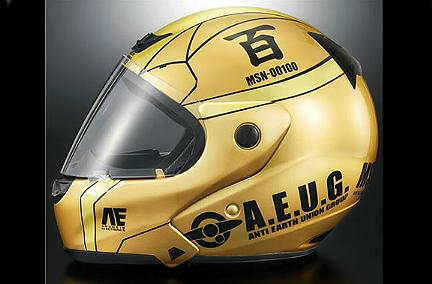helmet: (74, 12, 379, 253)
